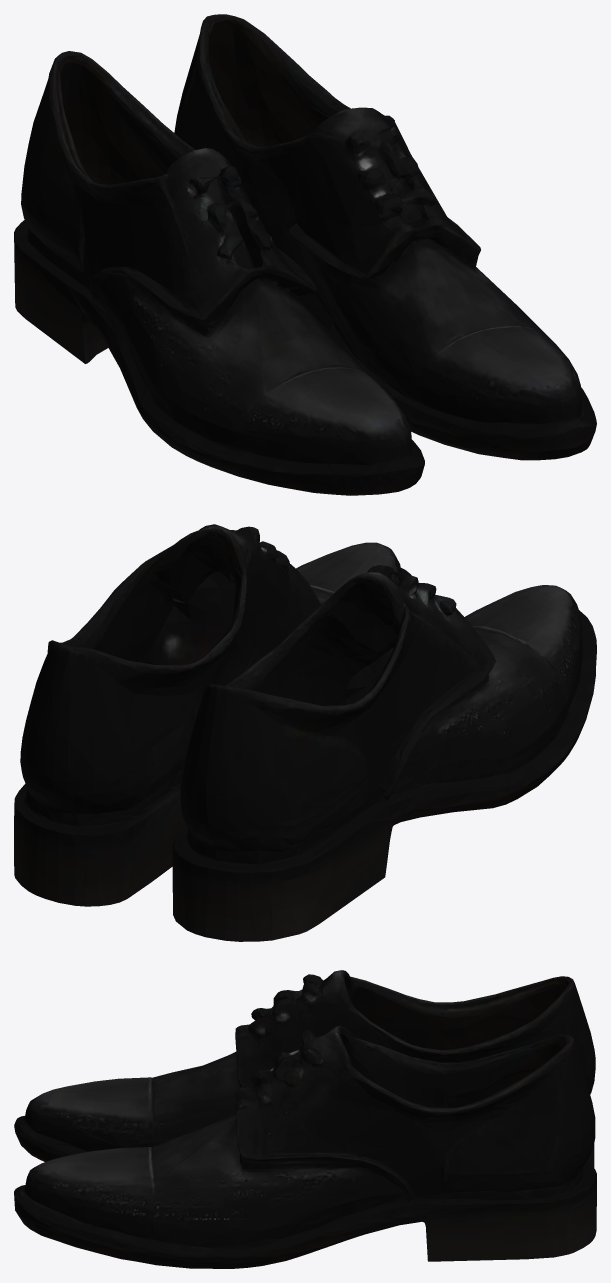
The picture shows the model from 3 angles, top to bottom: view 1: azimuth 30°, elevation 25°; view 2: azimuth 150°, elevation 25°; view 3: azimuth 270°, elevation 25°; orthographic projection. The views are drawn at different scales.
Parts seen in each view (by area): view 1: geometry_0; view 2: geometry_0; view 3: geometry_0.
Part boxes in pixels (x1,y1,x2,y2): geometry_0: [14, 14, 596, 495]; geometry_0: [14, 524, 596, 941]; geometry_0: [14, 970, 596, 1268].
Size of the model in its own units: 0.6063 by 0.3839 by 0.9979.
Materials: 1 (1 with a texture image).
